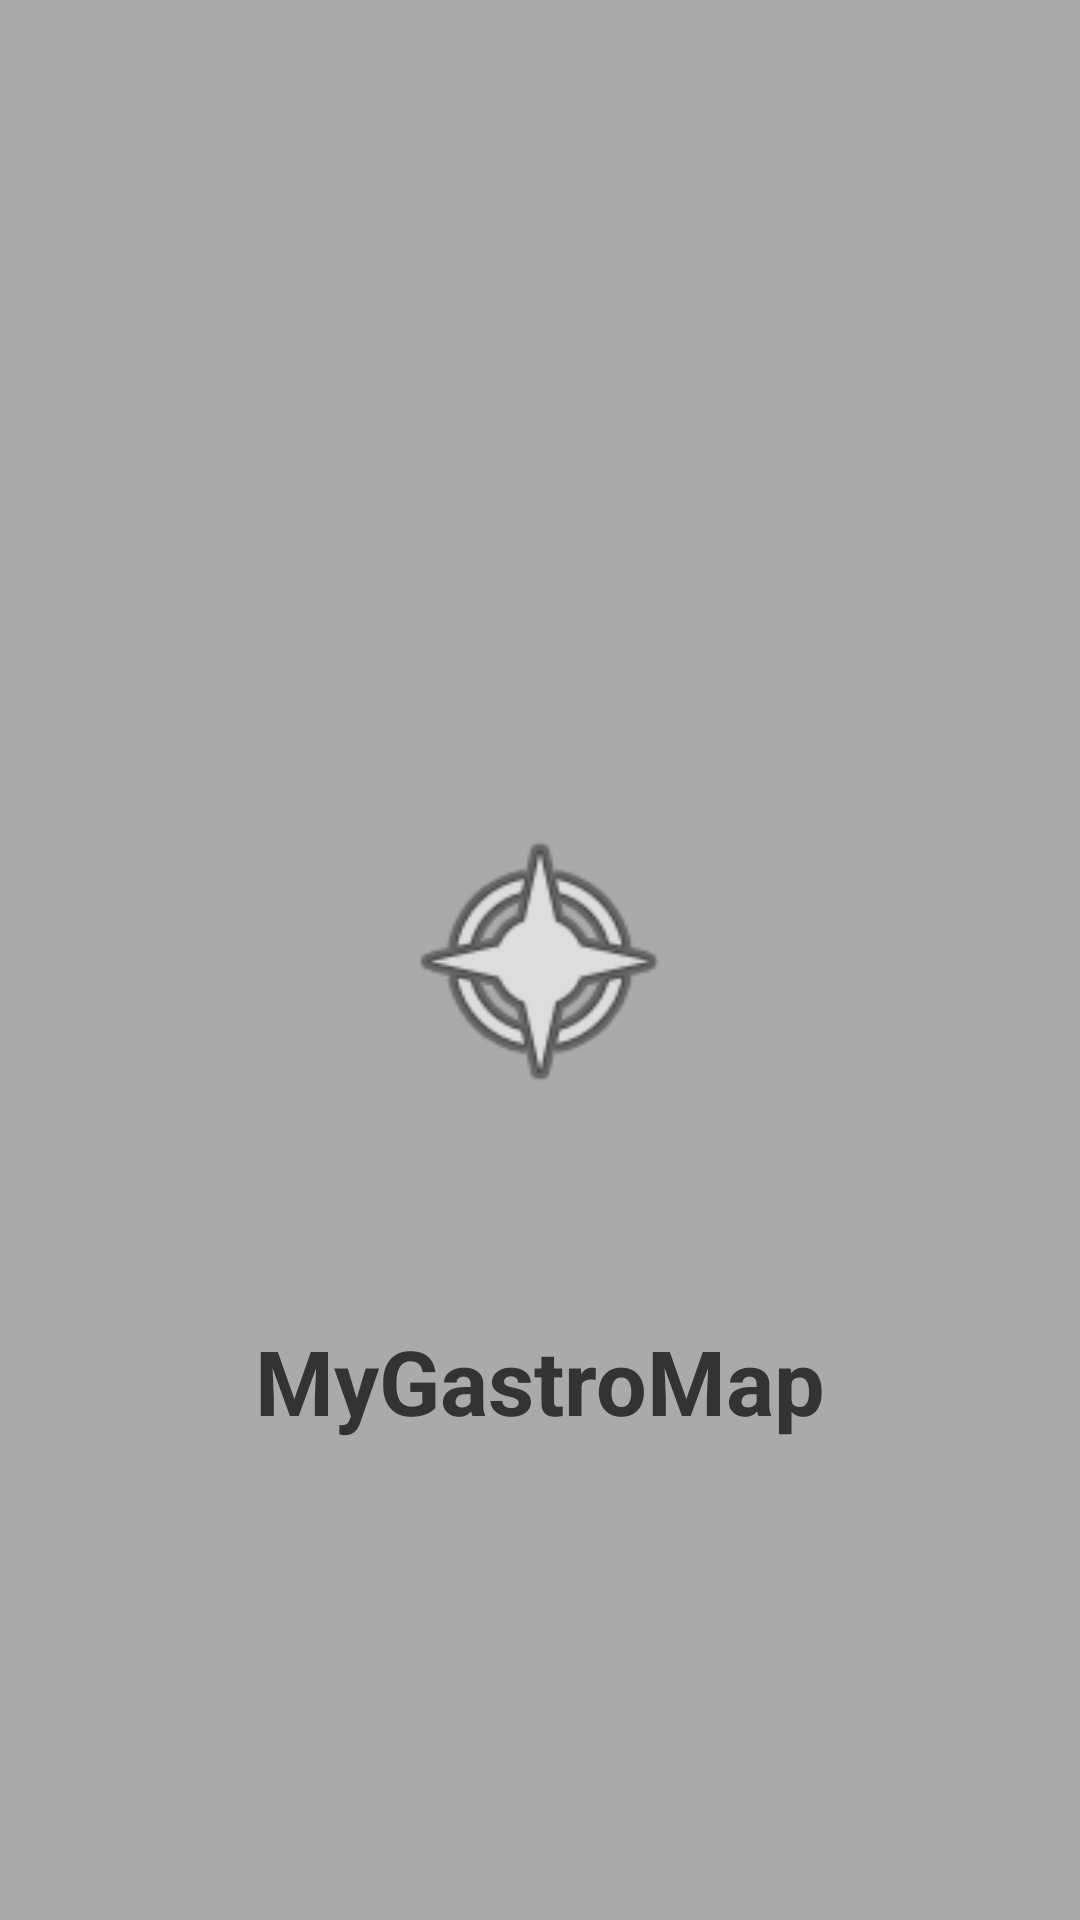

Point at icon controls on the screen. Image size 1080w x 1920h, points as [x,y].
compass: [539,962]
